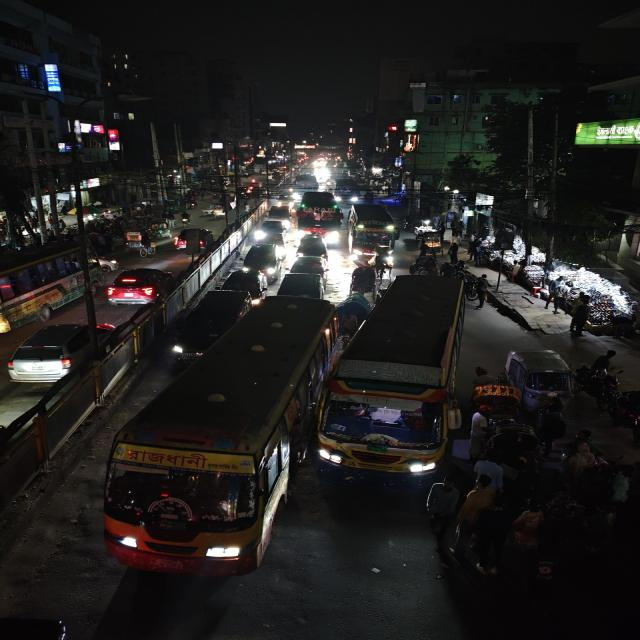bus: (99, 294, 332, 578), (320, 276, 468, 484), (0, 241, 91, 334), (349, 202, 398, 266), (296, 191, 343, 242)
car: (5, 320, 116, 385), (171, 289, 248, 359), (105, 264, 178, 308), (279, 262, 329, 298), (240, 240, 282, 278), (215, 269, 268, 299), (171, 225, 214, 253), (256, 214, 290, 242), (294, 234, 330, 260), (91, 252, 120, 273)
cng: (502, 347, 575, 407)
pedestrian: (424, 478, 459, 532), (594, 349, 618, 377)
rickshaw: (468, 365, 521, 429), (346, 264, 377, 301), (122, 229, 151, 254)
